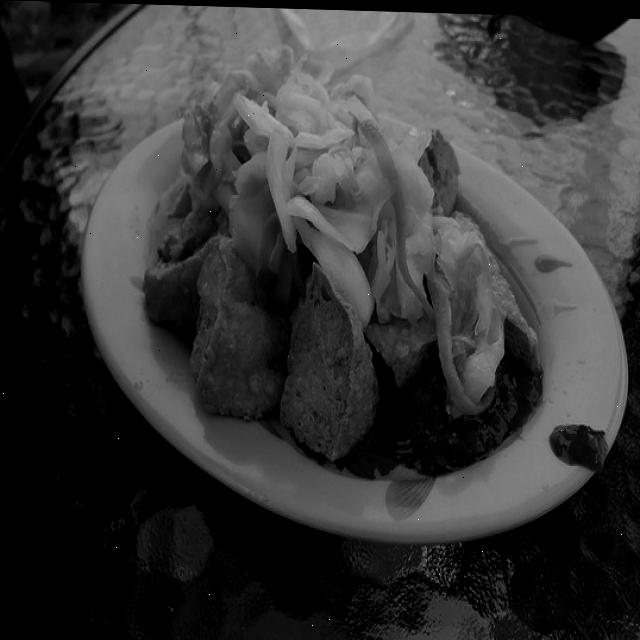豆腐料理: (38, 9, 640, 588)
